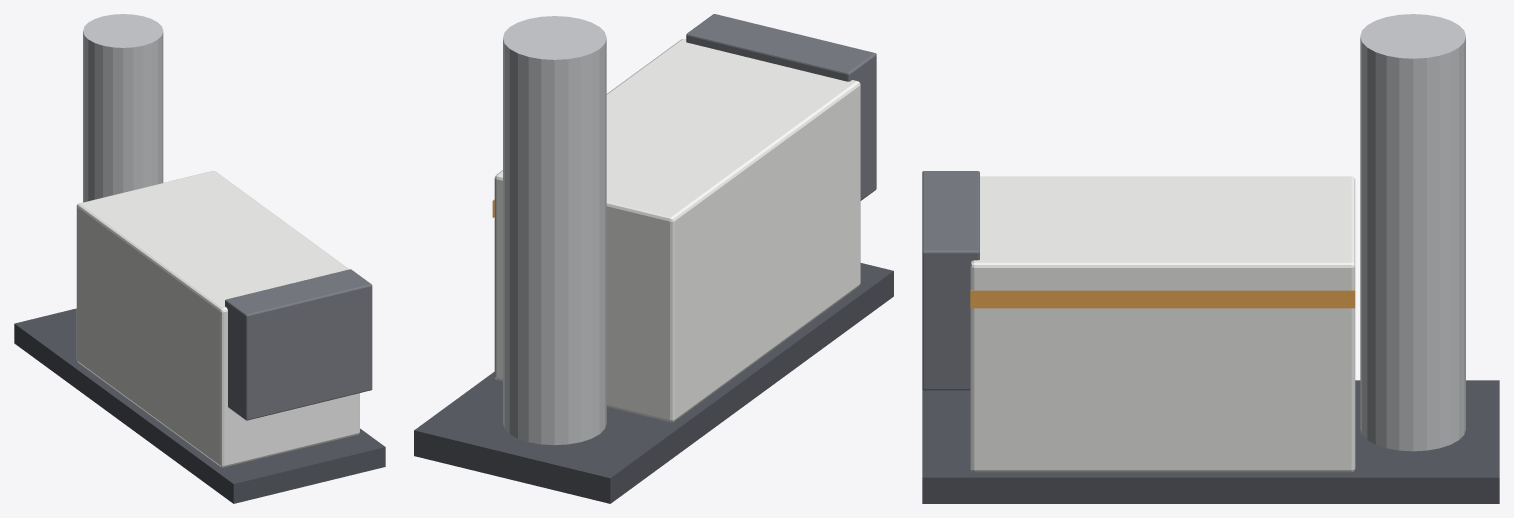
File: gas.glb
3 views of the same model, side by side, from view 1: azimuth 30°, elevation 25°; view 2: azimuth 150°, elevation 25°; view 3: azimuth 270°, elevation 25° (orthographic). The views are drawn at different scales.
Visible parts, largest first — view 1: enc, intake, stack, skid; view 2: enc, stack, skid, intake; view 3: enc, stack, skid, intake, stripe.
Part boxes in pixels (<box>): enc: <box>76,171,359,467</box>; intake: <box>225,269,372,420</box>; stack: <box>83,14,163,202</box>; skid: <box>14,308,385,503</box>; enc: <box>494,39,860,422</box>; stack: <box>503,16,606,445</box>; skid: <box>414,263,893,503</box>; intake: <box>686,14,876,200</box>; enc: <box>970,176,1355,472</box>; stack: <box>1360,14,1465,451</box>; skid: <box>922,380,1499,503</box>; intake: <box>922,171,979,390</box>; stripe: <box>970,290,1355,308</box>.
Size of the model in its own units: 2.4 by 4.8 by 6.
